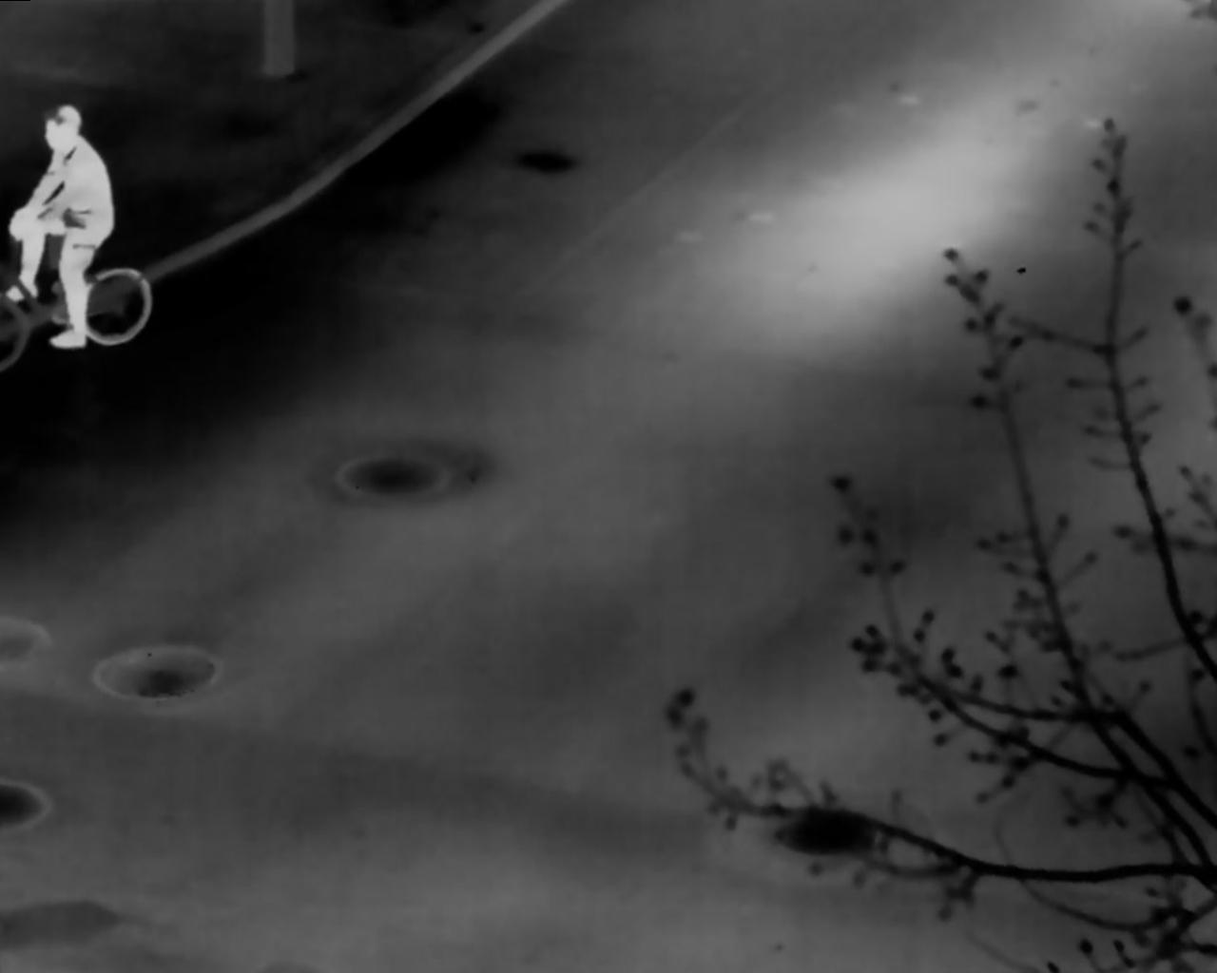person: (4, 105, 115, 349)
